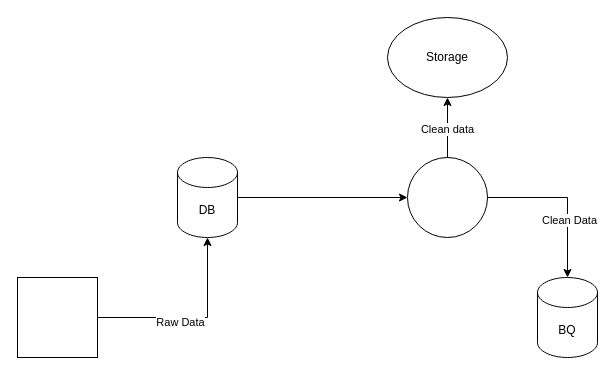
Some shapes in this 615 by 375 pixel diagram are drawn without their labels. Each missing label, with the box of its shape:
CSV File: (16, 276, 98, 358)
Spark Job: (406, 156, 488, 238)
